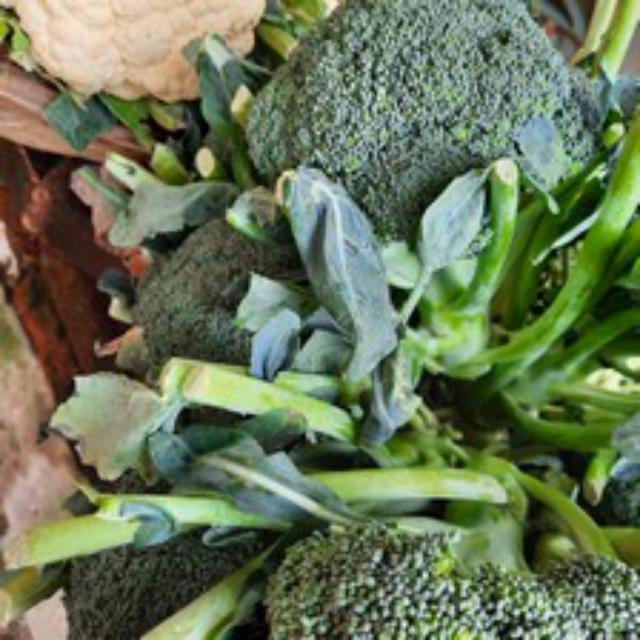broccoli: (247, 0, 566, 270)
